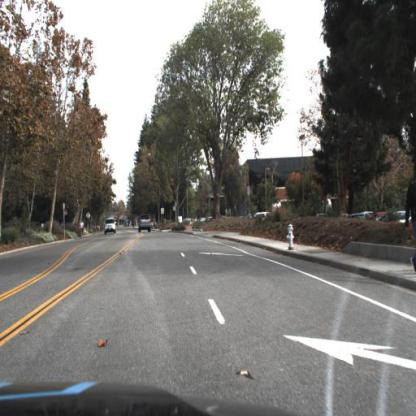biker: (79, 218, 85, 240)
car: (138, 211, 153, 235), (104, 218, 118, 236)
pedestrian: (405, 167, 416, 276)
